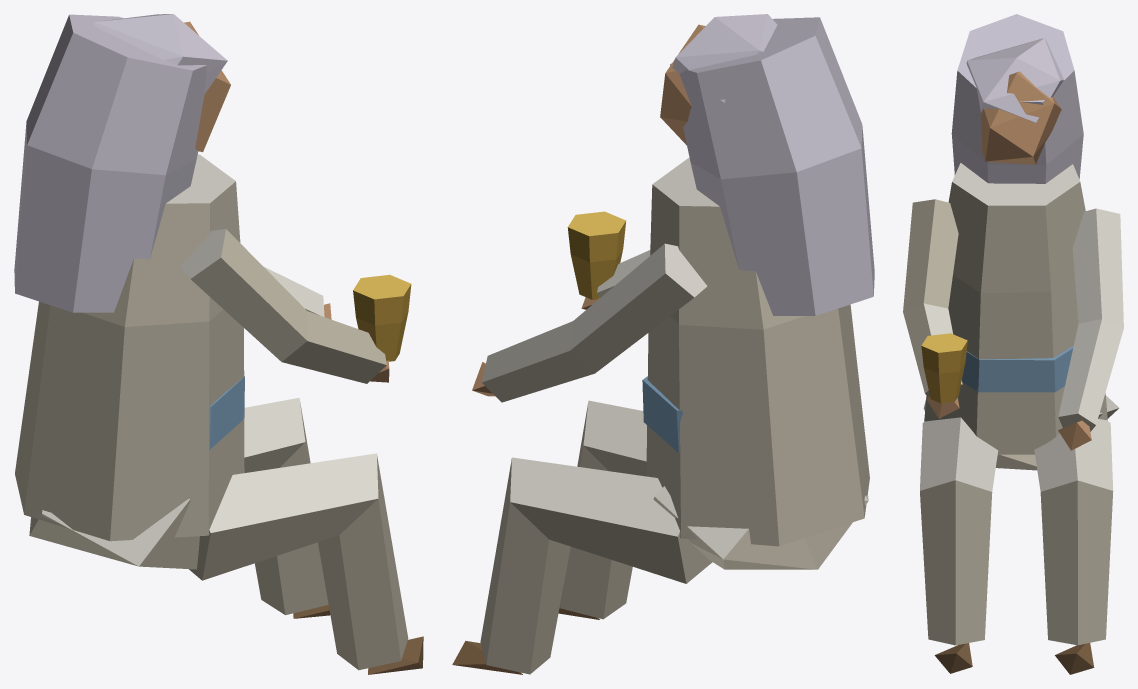
Rendered from guest2.glb.
3 views of the same model, side by side, from view 1: azimuth 30°, elevation 25°; view 2: azimuth 150°, elevation 25°; view 3: azimuth 270°, elevation 25° (orthographic). The views are drawn at different scales.
Parts seen in each view (by area): view 1: base, head_m, arm_m; view 2: base, head_m, arm_m; view 3: base, head_m, arm_m.
Boxes of the visible parts, left/top/right/bottom form: base: left=15, top=154, right=423, bottom=674; head_m: left=14, top=14, right=230, bottom=312; arm_m: left=179, top=229, right=411, bottom=383; base: left=452, top=157, right=869, bottom=674; head_m: left=660, top=14, right=874, bottom=315; arm_m: left=567, top=211, right=650, bottom=309; base: left=920, top=163, right=1123, bottom=674; head_m: left=951, top=14, right=1083, bottom=183; arm_m: left=903, top=199, right=967, bottom=418.
Size of the model in its own units: 0.2842 by 0.4968 by 0.1839.
